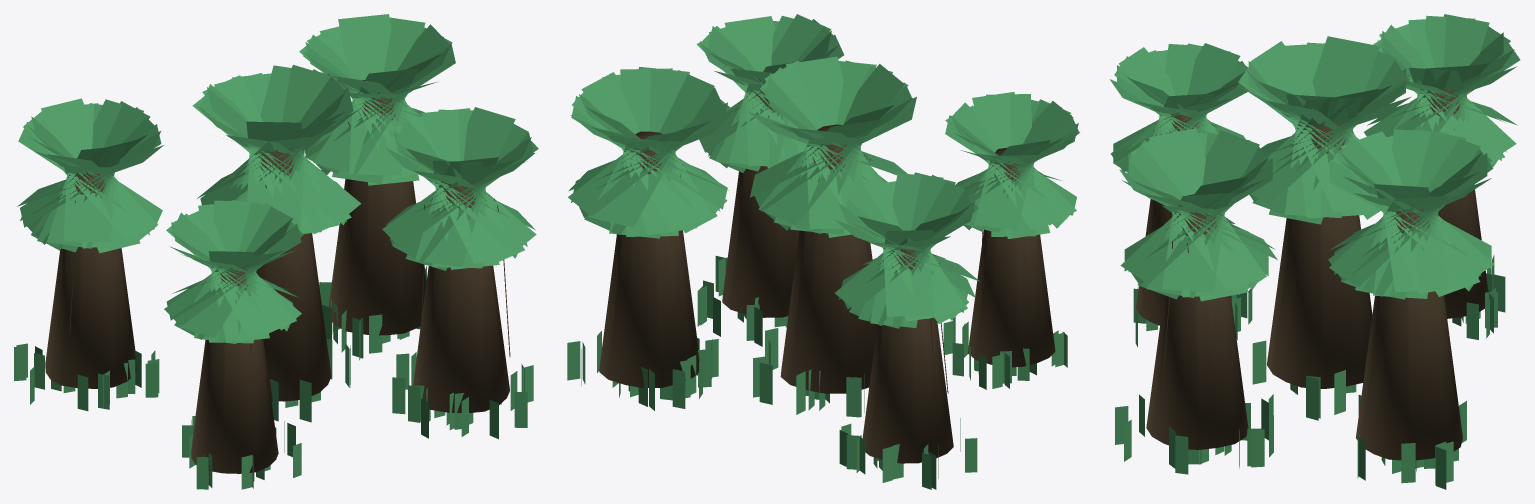
The model's file is jungle-forest.glb.
3 renders of one model, left to right at view 1: azimuth 30°, elevation 25°; view 2: azimuth 150°, elevation 25°; view 3: azimuth 270°, elevation 25°, orthographic. The views are drawn at different scales.
Visible parts, largest first — view 1: Node261, Node131, Node66, Node196, Node1, Node153, Node67, Node280, Node87, Node4, Node152, Node20 (+49 smaller); view 2: Node131, Node1, Node66, Node196, Node261, Node16, Node80, Node147, Node143, Node145, Node276, Node12 (+49 smaller); view 3: Node131, Node1, Node261, Node6, Node66, Node269, Node267, Node137, Node138, Node265, Node270, Node11 (+69 smaller).
Part boxes in pixels (bbox=[...]): Node261: bbox=[413, 182, 509, 412]; Node131: bbox=[328, 80, 426, 335]; Node66: bbox=[45, 173, 136, 388]; Node196: bbox=[191, 267, 278, 473]; Node1: bbox=[256, 151, 331, 401]; Node153: bbox=[338, 14, 419, 185]; Node67: bbox=[41, 98, 140, 253]; Node280: bbox=[405, 107, 515, 270]; Node87: bbox=[63, 176, 114, 242]; Node4: bbox=[192, 96, 361, 223]; Node152: bbox=[349, 99, 404, 175]; Node20: bbox=[234, 64, 337, 200]; Node131: bbox=[599, 131, 699, 387]; Node1: bbox=[780, 124, 877, 393]; Node66: bbox=[862, 249, 953, 463]; Node196: bbox=[968, 147, 1055, 367]; Node261: bbox=[722, 92, 799, 317]; Node16: bbox=[786, 56, 866, 237]; Node80: bbox=[883, 250, 933, 316]; Node147: bbox=[622, 149, 713, 229]; Node143: bbox=[588, 151, 675, 227]; Node145: bbox=[620, 68, 678, 236]; Node276: bbox=[724, 16, 775, 168]; Node12: bbox=[758, 83, 908, 225]; Node131: bbox=[1356, 209, 1462, 460]; Node1: bbox=[1266, 122, 1372, 388]; Node261: bbox=[1146, 194, 1248, 449]; Node6: bbox=[1268, 36, 1379, 224]; Node66: bbox=[1426, 89, 1488, 318]; Node269: bbox=[1149, 128, 1248, 301]; Node267: bbox=[1162, 213, 1224, 292]; Node137: bbox=[1373, 129, 1448, 298]; Node138: bbox=[1383, 214, 1449, 292]; Node265: bbox=[1137, 130, 1259, 299]; Node270: bbox=[1172, 212, 1266, 290]; Node11: bbox=[1250, 41, 1380, 219].
Size of the model in its own units: 31.42 by 22.3 by 26.18.
